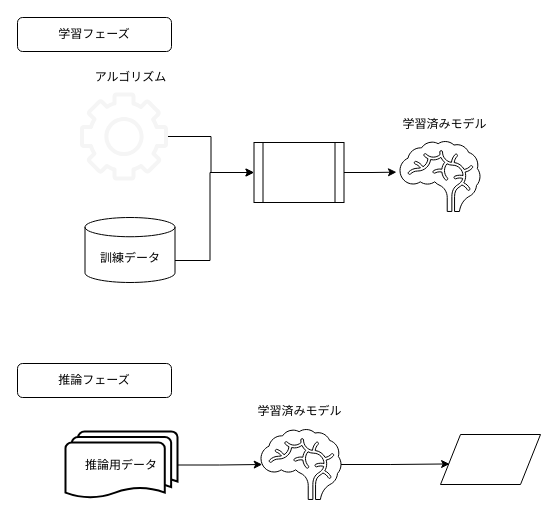
Some shapes in this 558 by 517 pixel diagram are drawn without their labels. Here are the shapes that lost their labels. From the top down, the centre of each, then its label:
At point 298,172: "学習".
At point 490,459: "予測結果".
